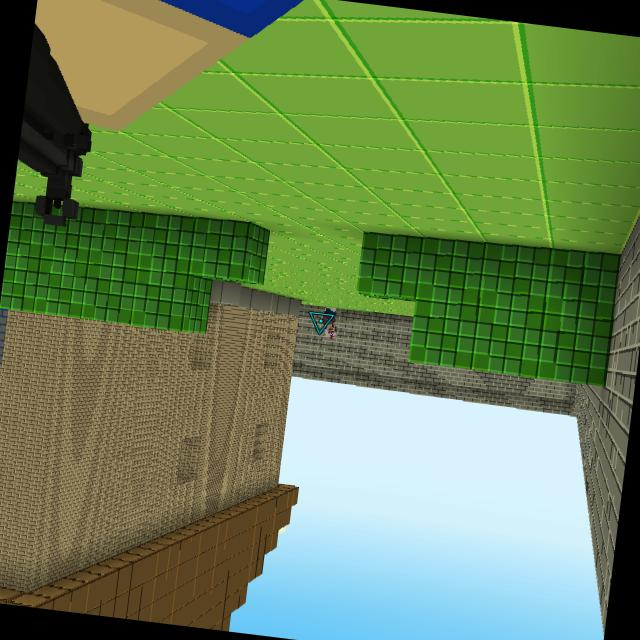enemy: (319, 305, 340, 341)
